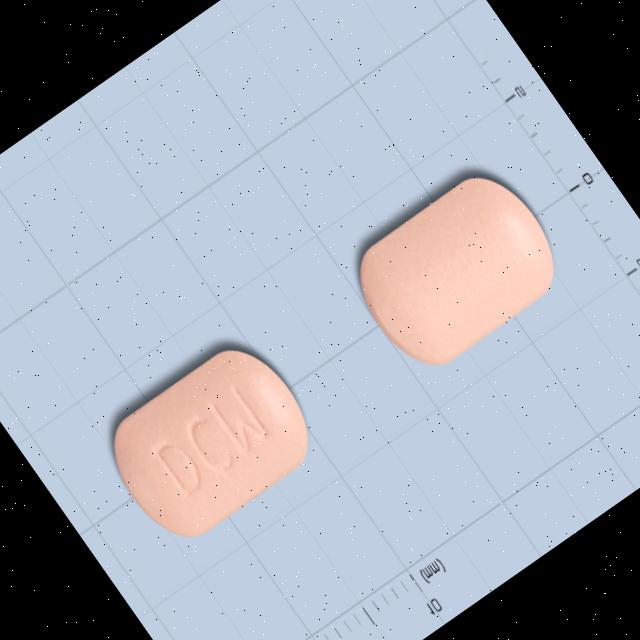Dongkoo Levofloxacin Hydrate Tab-500mg: (93, 330, 331, 556), (338, 158, 576, 384)
